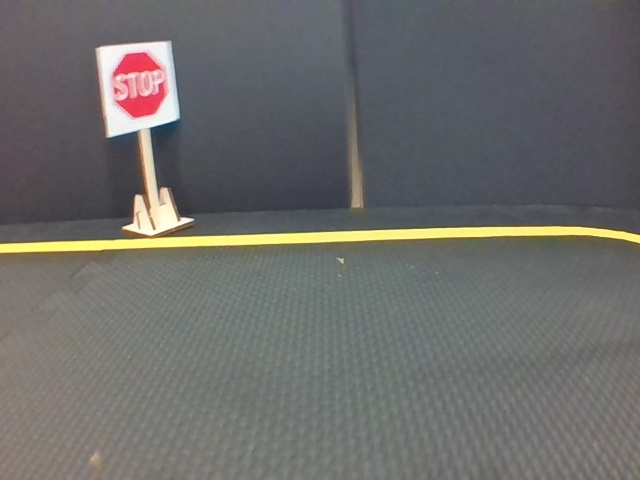stop: (97, 48, 174, 125)
